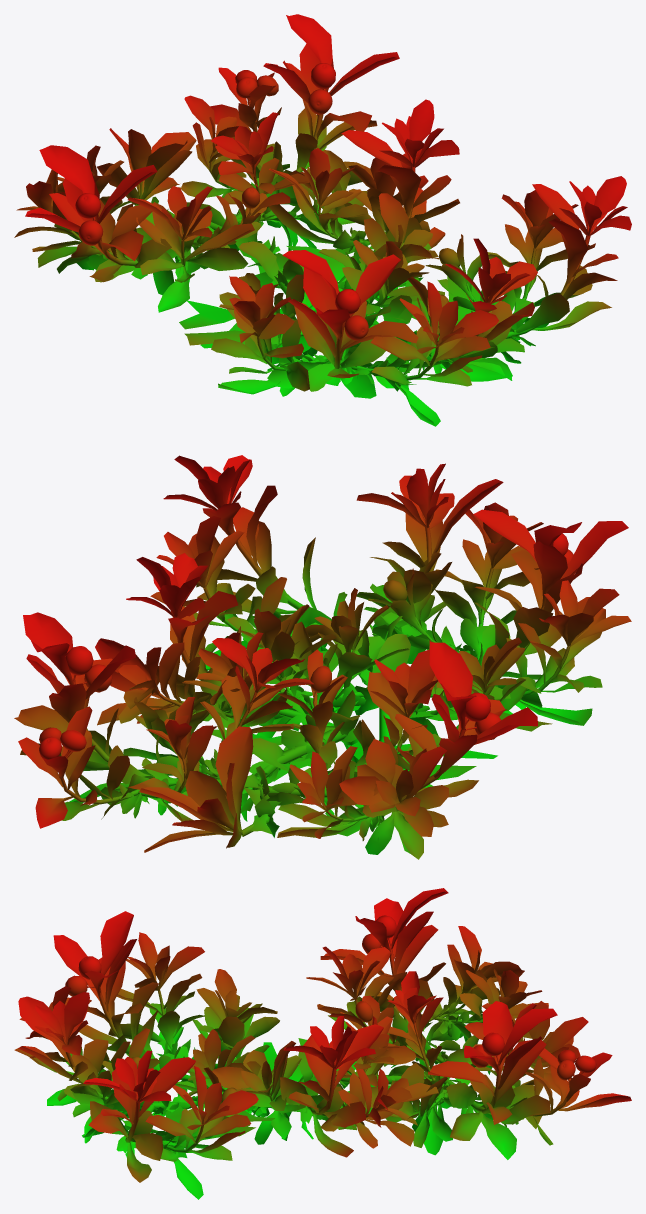
File: Alpine Bearberry_LOD1_Var6_xb0gdazqx.fbx
3 views of the same model, one above another, from view 1: azimuth 30°, elevation 25°; view 2: azimuth 150°, elevation 25°; view 3: azimuth 270°, elevation 25° (orthographic). The views are drawn at different scales.
Visible parts, largest first — view 1: _anp9_Var6_LOD1; view 2: _anp9_Var6_LOD1; view 3: _anp9_Var6_LOD1.
Boxes of the visible parts, box(x1,y1,x2,y2) form: _anp9_Var6_LOD1: box(14, 14, 631, 426); _anp9_Var6_LOD1: box(14, 455, 631, 859); _anp9_Var6_LOD1: box(14, 888, 631, 1199).
Size of the model in its own units: 37.25 by 14.42 by 48.03.
